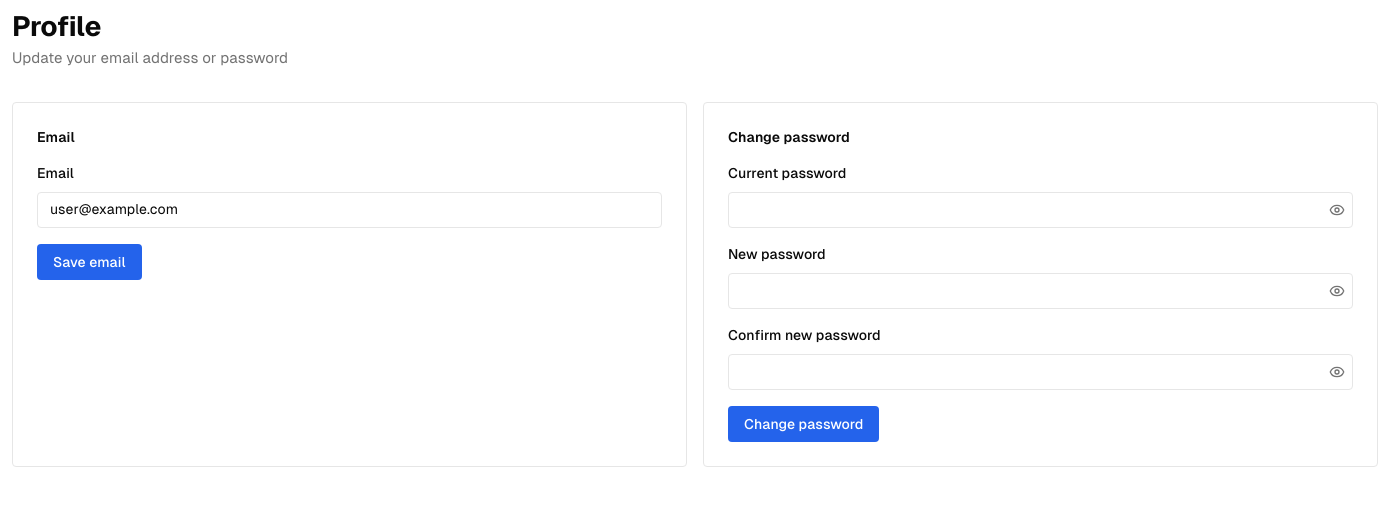
Scenario: ProfilePage — password change validation › rejects a confirmation that does not match
Type "oldpass1" into the password field labelled "Current password" at (1040, 210), box [728, 192, 1353, 228]
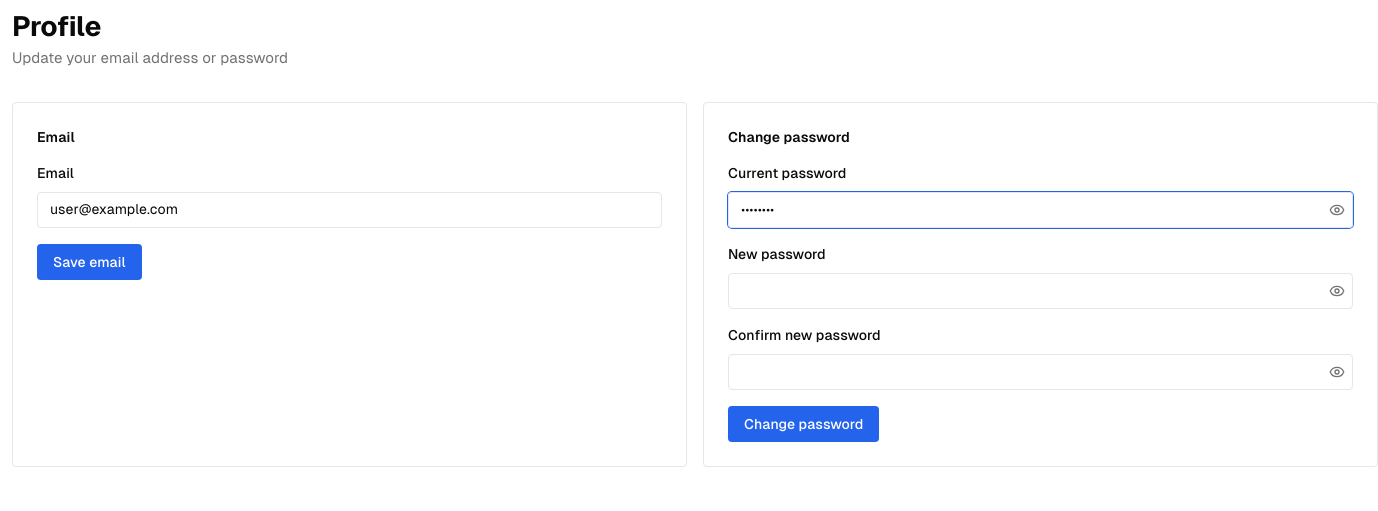
Type "longenough8" into the password field labelled "New password" at (1040, 291), box [728, 273, 1353, 309]
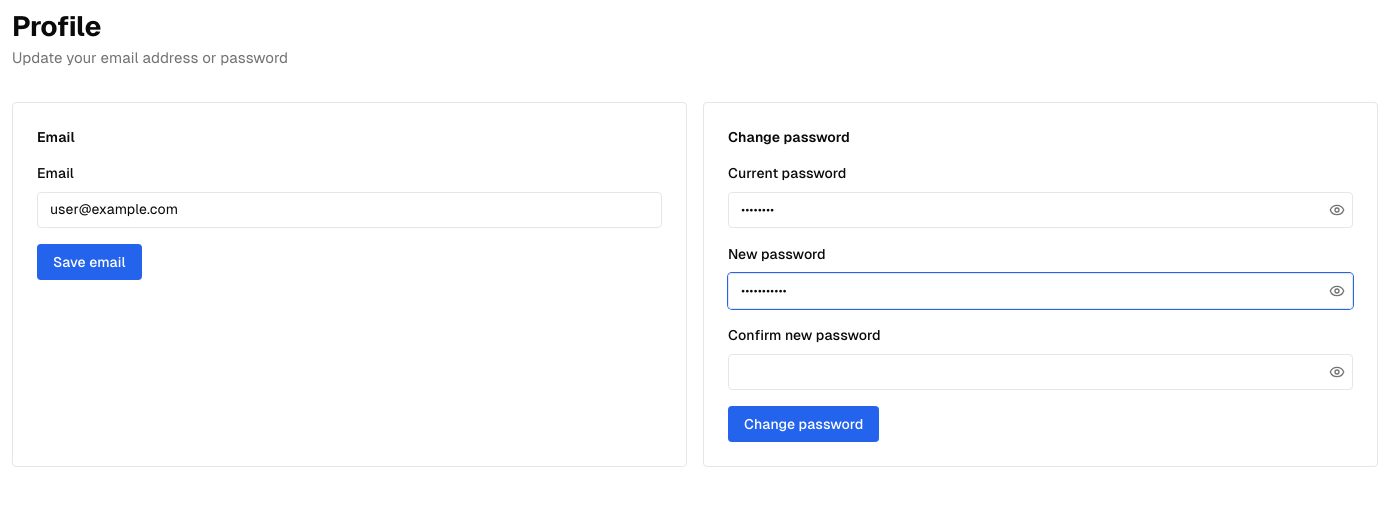
Type "different8" into the password field labelled "Confirm new password" at (1040, 372), box [728, 354, 1353, 390]
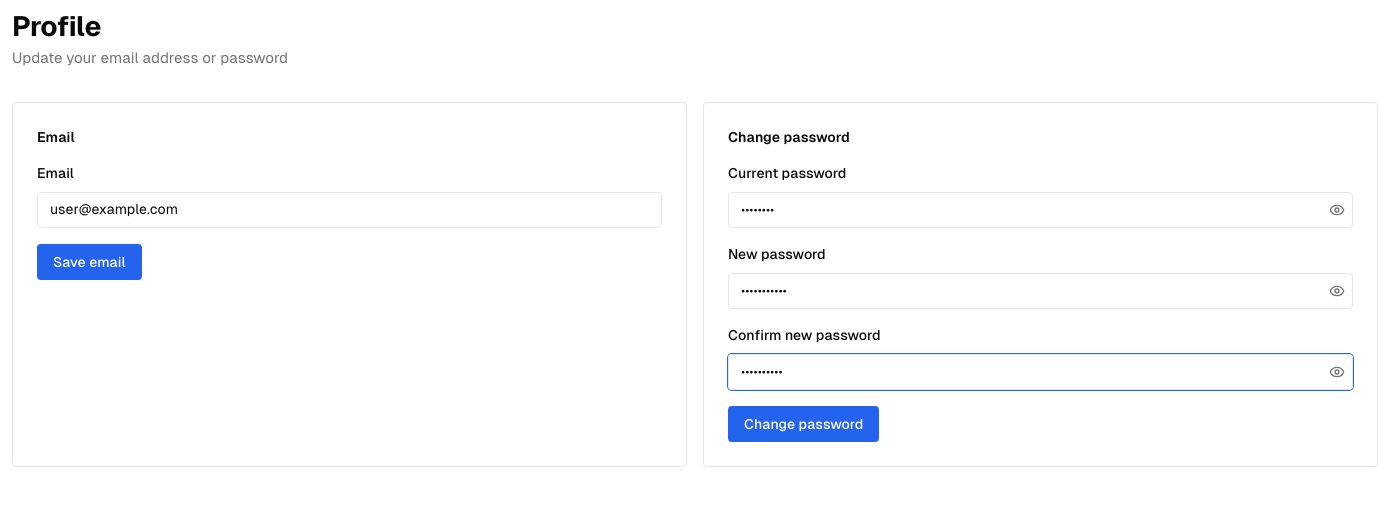
Click the button "Change password" at (804, 424), box [728, 406, 879, 442]
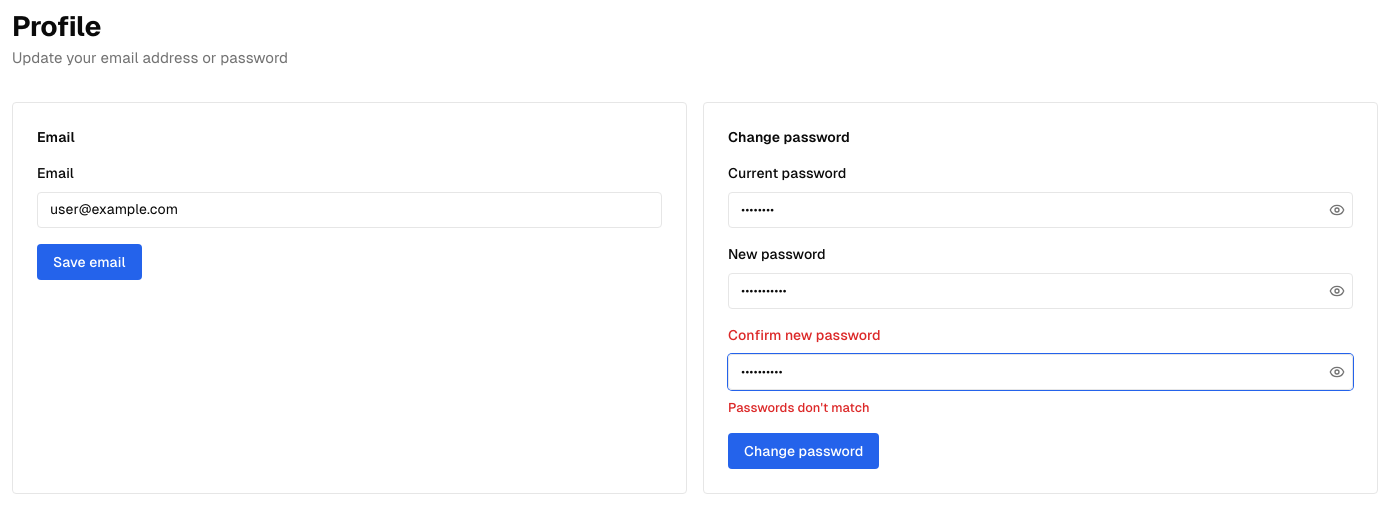
Now the text "Passwords don't match" is shown, box [728, 400, 870, 415]
